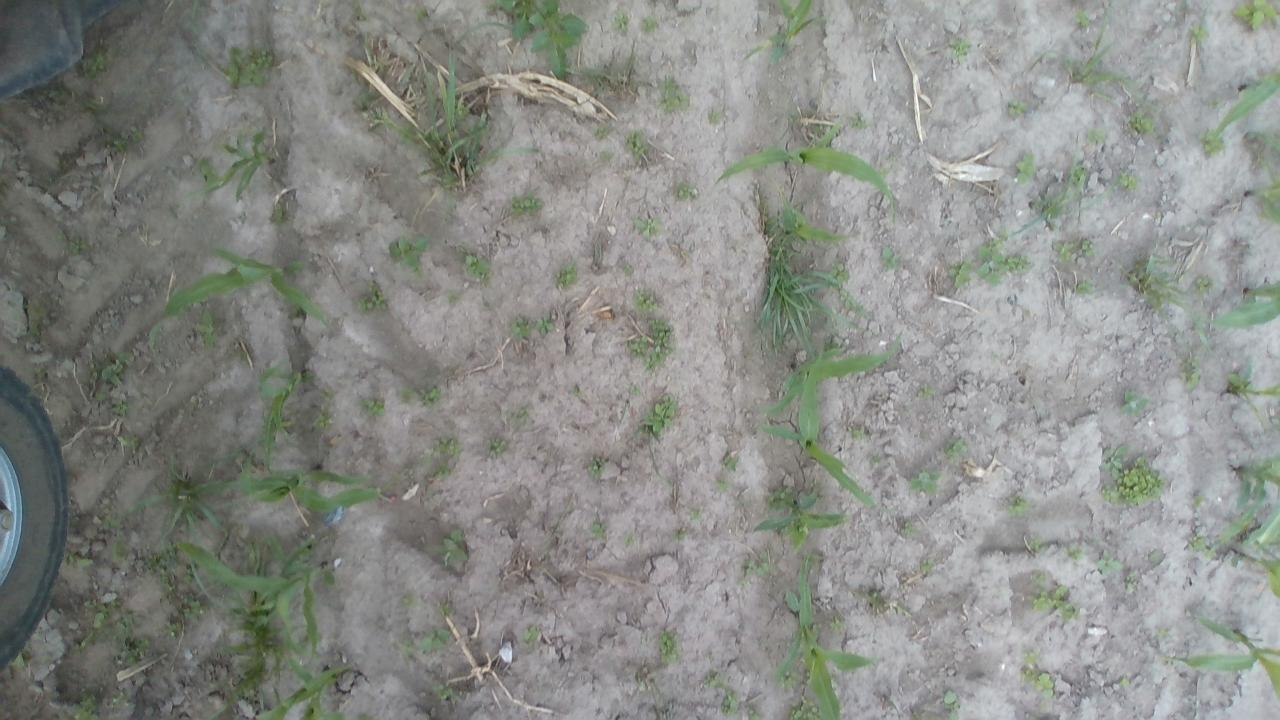Maize: (143, 242, 354, 359), (754, 350, 884, 514), (180, 528, 341, 659), (712, 123, 902, 209), (778, 553, 872, 720), (756, 332, 909, 416), (1155, 608, 1280, 708), (192, 459, 388, 518), (180, 121, 290, 207), (244, 645, 360, 719), (754, 487, 847, 554), (741, 0, 822, 66), (1226, 461, 1280, 547), (1211, 276, 1280, 342), (1213, 70, 1280, 136), (1223, 525, 1280, 593), (1223, 371, 1280, 432), (778, 199, 848, 245), (1242, 150, 1280, 231)
Weeds: (360, 49, 530, 188), (757, 204, 856, 358), (215, 592, 285, 716), (1060, 0, 1142, 104), (496, 0, 590, 80), (142, 464, 228, 549), (245, 362, 312, 457), (1097, 446, 1165, 508), (1124, 254, 1186, 318), (578, 43, 646, 100), (238, 532, 326, 572), (973, 235, 1037, 285), (112, 612, 159, 676), (418, 430, 468, 487), (152, 541, 199, 595), (396, 624, 456, 666), (220, 45, 274, 91), (641, 314, 682, 374), (1024, 192, 1088, 228), (1030, 579, 1080, 625), (386, 233, 435, 276), (96, 347, 142, 392), (426, 526, 475, 568), (81, 596, 118, 650), (641, 393, 684, 437), (99, 513, 134, 566), (344, 75, 382, 123), (1231, 0, 1280, 34), (354, 281, 395, 318), (406, 376, 449, 410), (502, 190, 546, 222), (1019, 664, 1060, 697), (936, 36, 978, 68), (660, 72, 690, 116), (1004, 94, 1040, 130), (50, 226, 90, 258), (864, 586, 904, 618), (655, 624, 682, 668), (1118, 387, 1150, 424), (461, 254, 498, 286), (624, 128, 656, 164), (1175, 354, 1205, 392), (784, 694, 826, 720), (192, 306, 218, 348), (910, 466, 944, 498), (936, 688, 970, 720), (1020, 530, 1053, 560), (108, 128, 146, 154), (942, 260, 972, 292), (741, 550, 773, 580), (548, 260, 582, 288), (60, 548, 94, 576), (582, 456, 612, 487), (430, 674, 461, 704), (877, 244, 904, 278), (352, 393, 390, 417), (180, 596, 210, 626), (502, 404, 534, 432), (479, 437, 512, 464), (846, 110, 880, 136), (72, 693, 104, 720), (1183, 17, 1212, 46), (634, 212, 664, 240), (1014, 152, 1038, 185), (631, 289, 659, 317), (1200, 128, 1224, 160), (78, 50, 110, 74), (1003, 493, 1030, 521), (1126, 112, 1157, 136), (519, 624, 550, 648), (608, 8, 632, 38), (1112, 165, 1136, 195), (586, 520, 616, 544), (110, 688, 132, 720), (309, 410, 336, 436), (109, 430, 142, 451), (319, 380, 341, 411), (940, 432, 966, 458), (695, 665, 723, 689), (111, 398, 139, 422), (719, 684, 740, 716), (90, 103, 116, 128), (637, 13, 664, 37), (1076, 235, 1100, 261), (824, 612, 850, 636), (703, 102, 726, 129), (1098, 549, 1120, 577), (1074, 6, 1096, 34), (509, 317, 534, 341), (828, 263, 851, 289), (397, 592, 426, 612), (406, 3, 438, 21), (916, 377, 939, 402), (1053, 240, 1075, 266), (625, 334, 649, 357), (158, 618, 180, 643), (675, 178, 694, 206), (618, 528, 642, 550), (777, 671, 808, 688), (1072, 160, 1091, 187), (1084, 125, 1108, 146), (1074, 279, 1095, 303), (1186, 537, 1212, 556), (594, 118, 612, 145), (1018, 644, 1040, 666), (268, 204, 290, 226), (536, 316, 558, 338), (718, 451, 741, 472), (435, 602, 459, 622), (1189, 490, 1210, 512), (916, 558, 939, 578), (1189, 275, 1213, 294), (740, 701, 764, 720), (1124, 568, 1140, 596), (846, 424, 868, 443), (625, 381, 644, 403), (197, 157, 214, 181), (671, 528, 690, 549), (866, 452, 889, 469), (1146, 548, 1170, 564), (1152, 626, 1171, 646), (900, 521, 919, 541), (1068, 545, 1090, 562), (805, 482, 827, 498), (714, 481, 736, 496), (616, 258, 633, 276), (15, 648, 30, 668), (444, 288, 459, 307), (1118, 675, 1132, 694), (774, 485, 792, 499), (687, 506, 701, 522)
